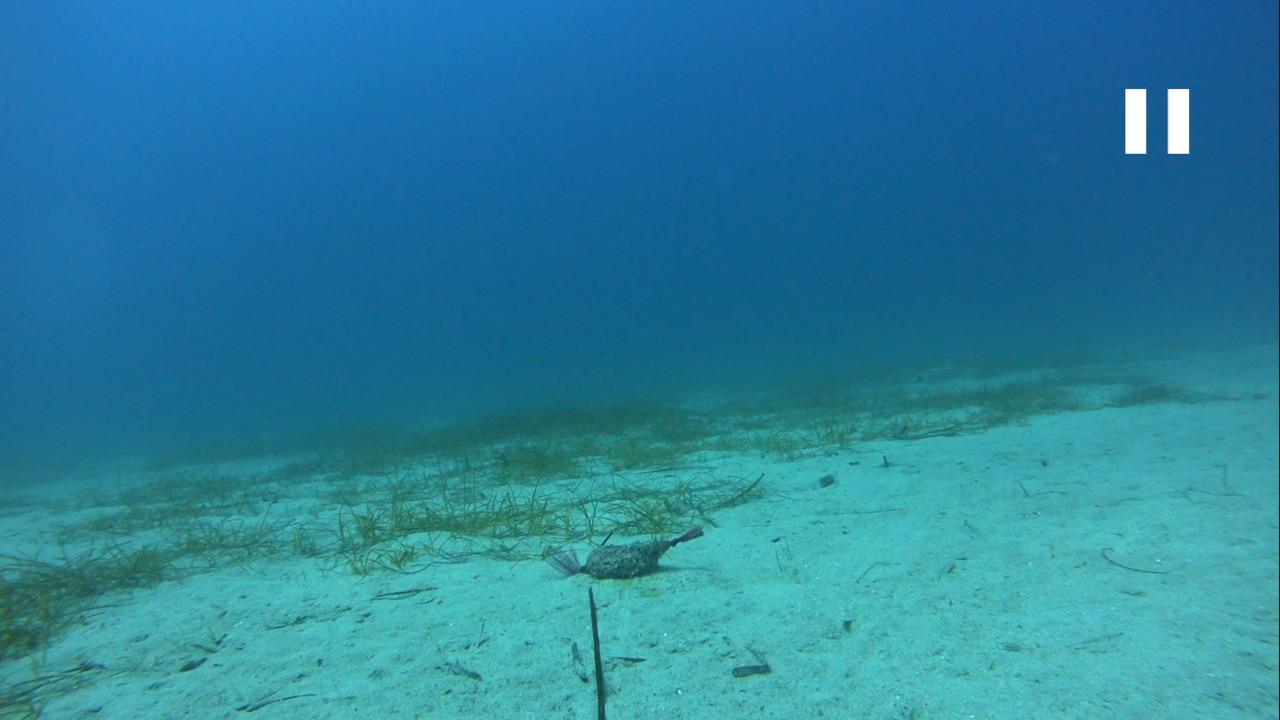dactylopterus: (903, 351, 970, 390)
